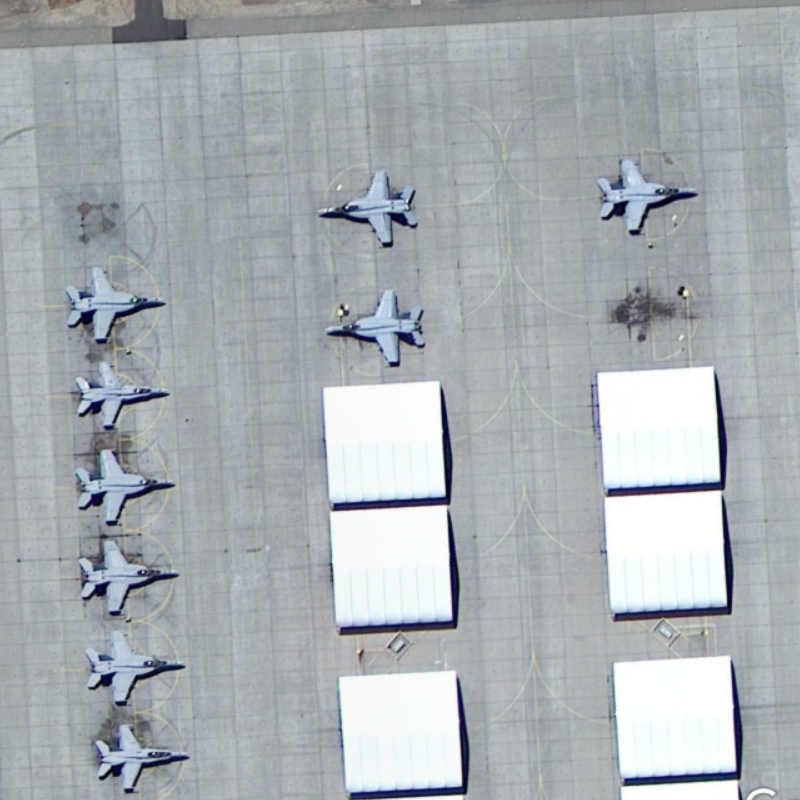A16: (590, 153, 701, 237), (60, 264, 171, 346), (74, 535, 182, 617), (322, 286, 430, 366), (313, 169, 421, 248), (81, 628, 188, 707), (73, 445, 177, 526), (91, 718, 192, 794), (73, 359, 172, 430)
